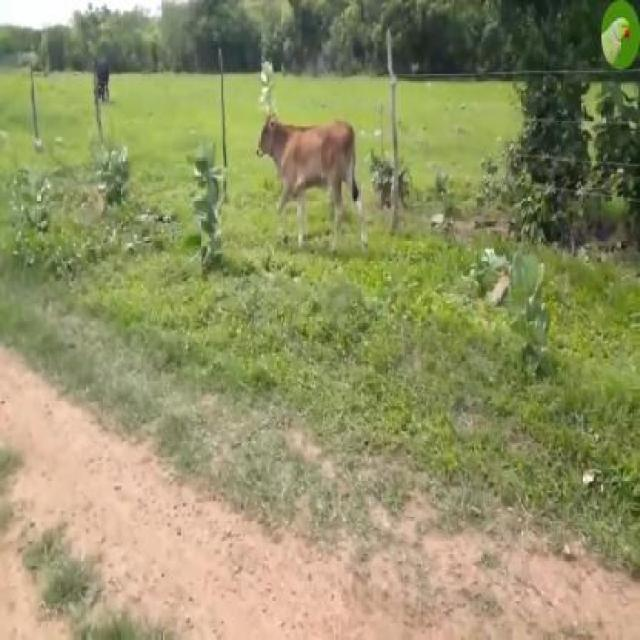Cow: (257, 115, 366, 248)
